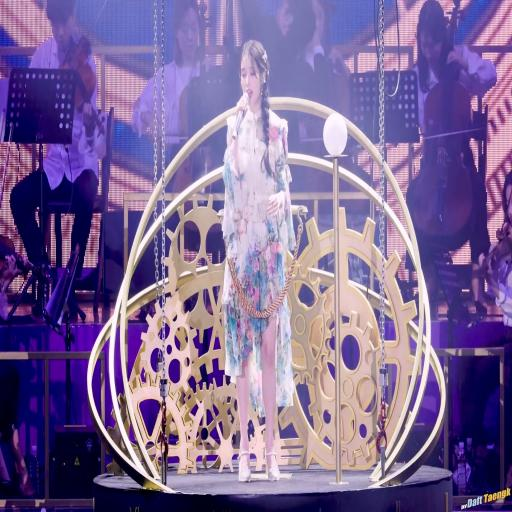IU: (239, 39, 269, 108)
